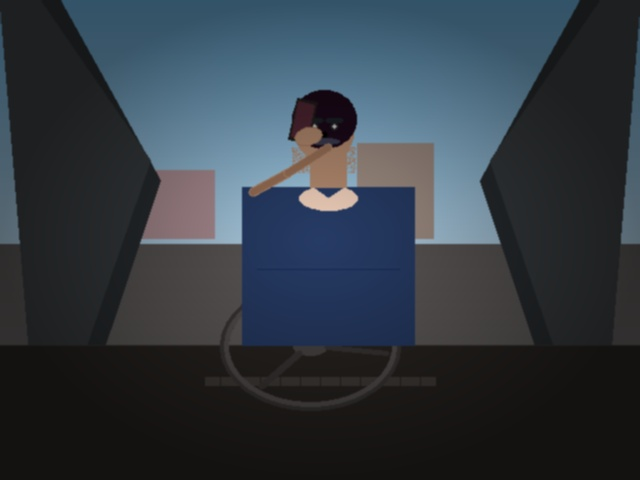phone_usage: (285, 92, 321, 150)
